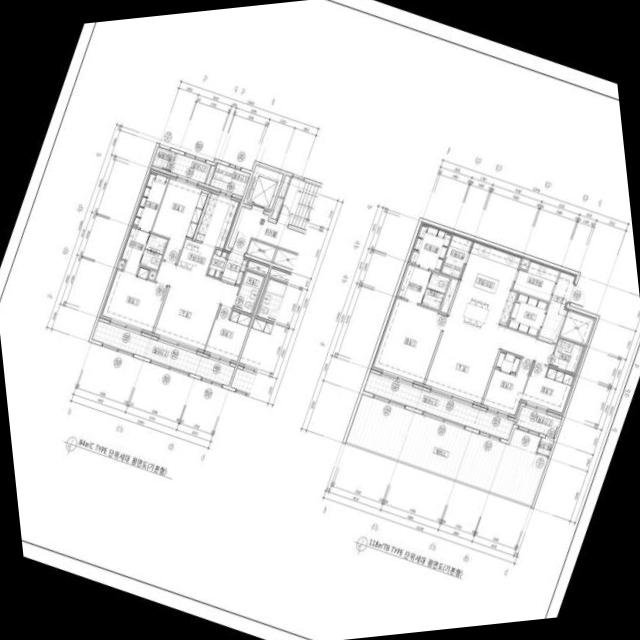background: (0, 0, 640, 640)
space_balconi: (362, 372, 515, 440), (91, 320, 234, 386), (516, 406, 561, 438), (210, 163, 250, 196), (170, 153, 210, 183)
space_bedroom: (372, 298, 446, 386), (151, 176, 209, 263), (99, 266, 167, 334), (482, 351, 532, 417), (203, 305, 252, 364), (521, 362, 574, 415)
space_dressroom: (131, 169, 169, 231), (409, 224, 451, 272), (119, 227, 149, 276)
space_elevator: (243, 165, 283, 212)
space_elevator_hall: (227, 206, 305, 253)
space_front: (538, 272, 574, 343), (220, 252, 249, 285)
space_kitchen: (448, 242, 521, 334), (177, 190, 241, 275), (512, 261, 559, 301)
space_living_room: (424, 317, 555, 406), (153, 261, 239, 352)
space_other: (506, 293, 548, 336), (440, 235, 472, 279), (398, 264, 431, 303), (560, 310, 593, 344), (271, 175, 290, 219), (246, 239, 276, 262), (439, 278, 458, 313), (207, 249, 228, 278), (272, 248, 297, 269), (247, 259, 269, 275), (205, 162, 216, 185), (519, 258, 529, 270), (116, 259, 125, 270), (148, 270, 156, 280)
space_outdoor_room: (151, 147, 175, 171), (537, 437, 553, 456)
space_staircase: (277, 177, 321, 230)
space_toilet: (233, 270, 264, 314), (550, 338, 583, 373), (421, 272, 449, 310), (139, 249, 162, 270), (145, 233, 168, 254)
